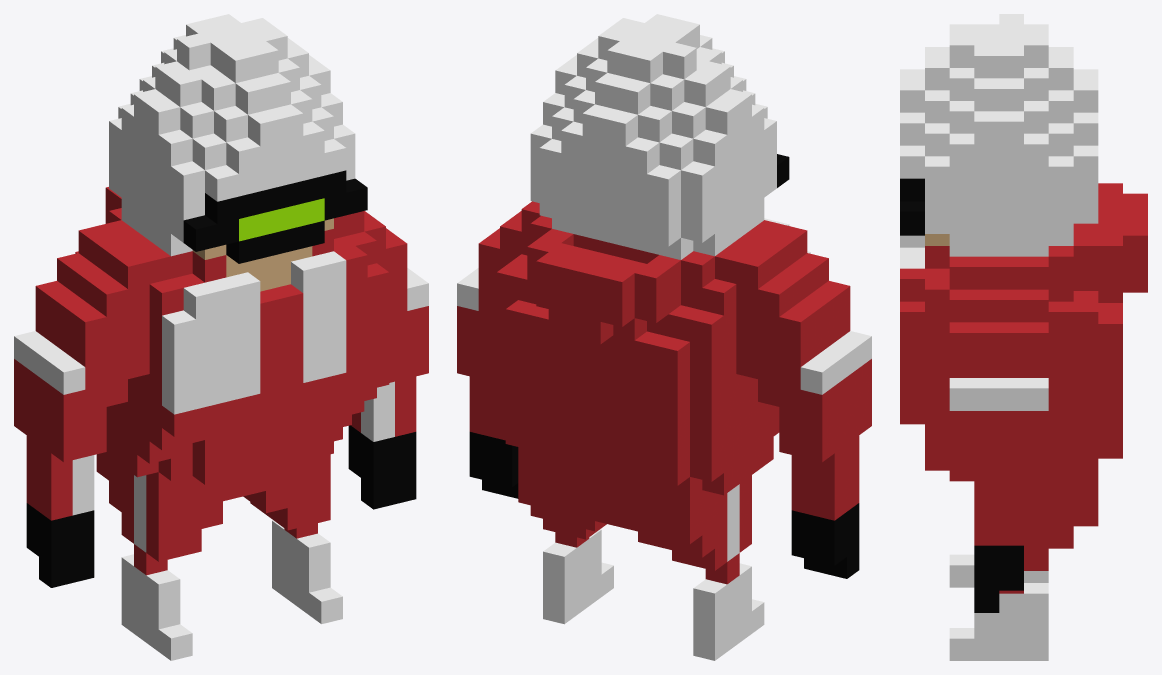
File: Moniteur_ski_triste.obj
3 views of the same model, side by side, from view 1: azimuth 30°, elevation 25°; view 2: azimuth 150°, elevation 25°; view 3: azimuth 270°, elevation 25° (orthographic).
Bounding box in the file's own units: 17 × 26 × 10.
1 material, 1 textured.
